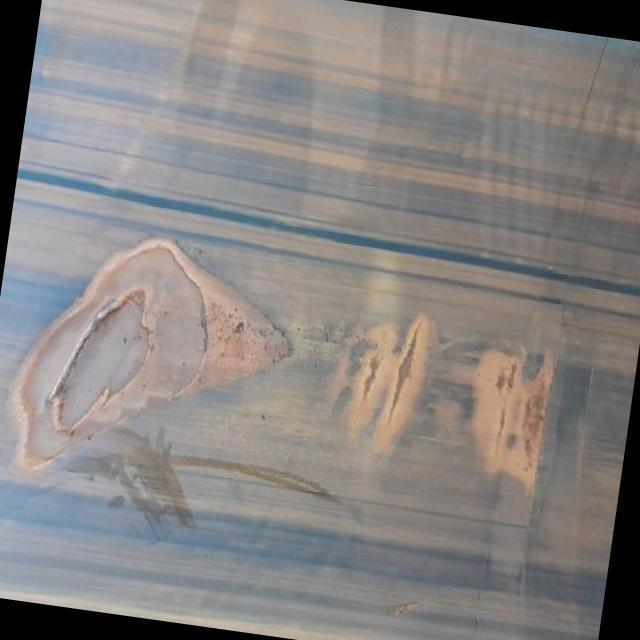Tear: (13, 232, 224, 476), (382, 324, 432, 432), (342, 344, 388, 416)
Wear: (472, 346, 560, 486)
